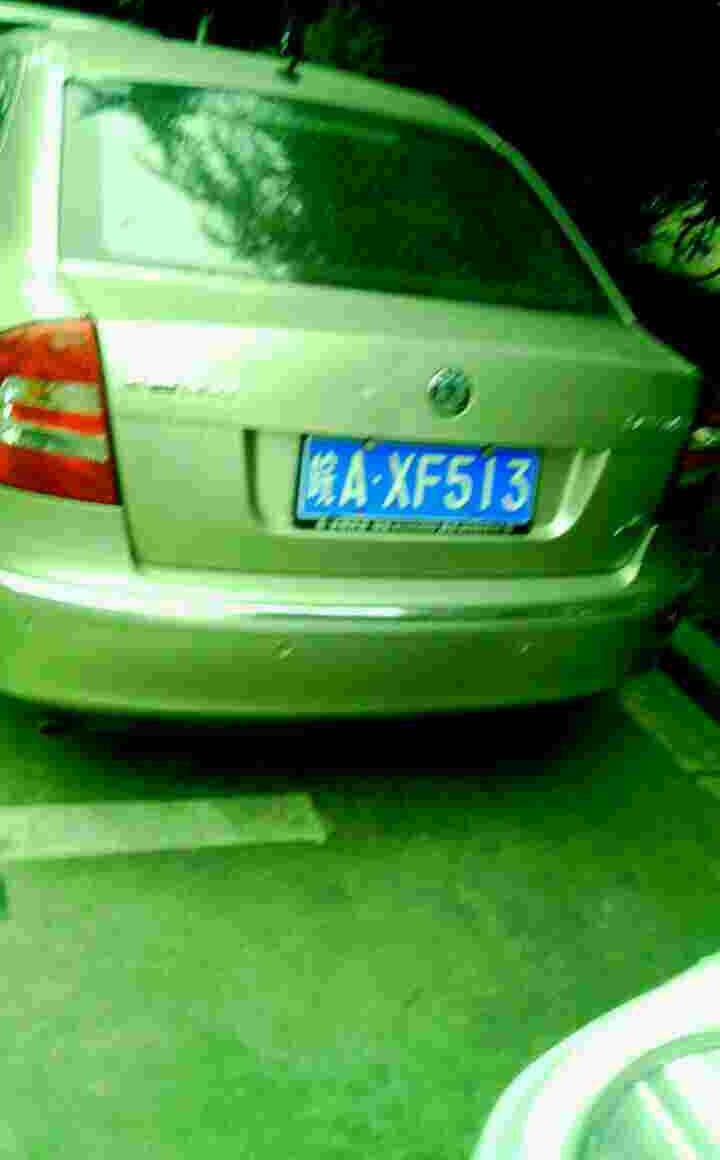license_plate: (309, 444, 546, 510)
